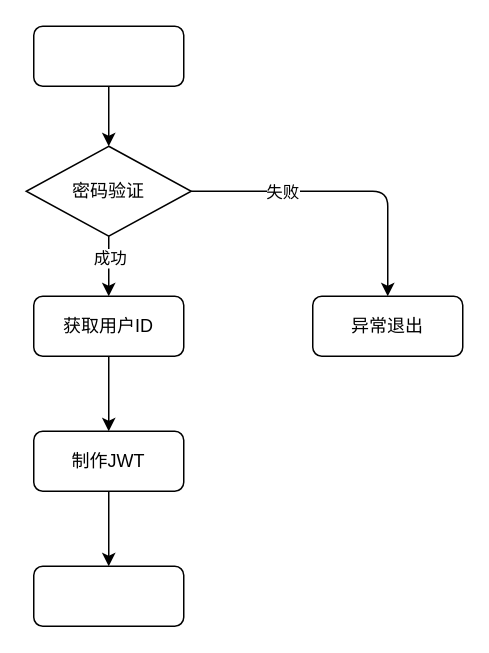
Some shapes in this 489 by 653 pixel diagram are drawn without their labels. The centre of each missing label's shape, as x and y in pixels:
"用户登录" goes at (x=108, y=55).
"返回前端token" goes at (x=108, y=595).
